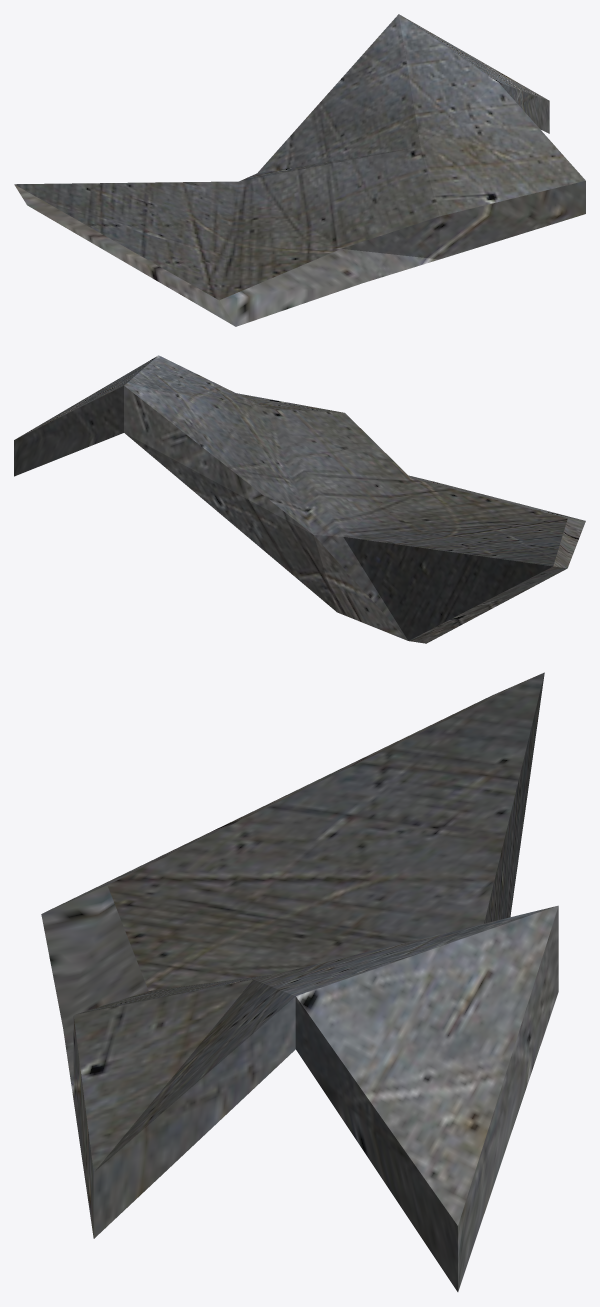
The model's file is shrap_01.obj.
3 renders of one model, top to bottom at view 1: azimuth 30°, elevation 25°; view 2: azimuth 150°, elevation 25°; view 3: azimuth 270°, elevation 25°, orthographic. The views are drawn at different scales.
Visible parts, largest first — view 1: Cube; view 2: Cube; view 3: Cube.
Boxes of the visible parts, x1,y1,x2,y2 form: Cube: (14,14,585,326); Cube: (14,355,585,643); Cube: (41,672,558,1291).
Bounding box in the file's own units: 2.77 × 1.03 × 1.21.
